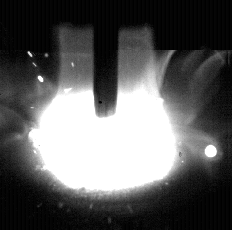arame: (93, 0, 119, 117)
poca: (28, 0, 175, 230)
